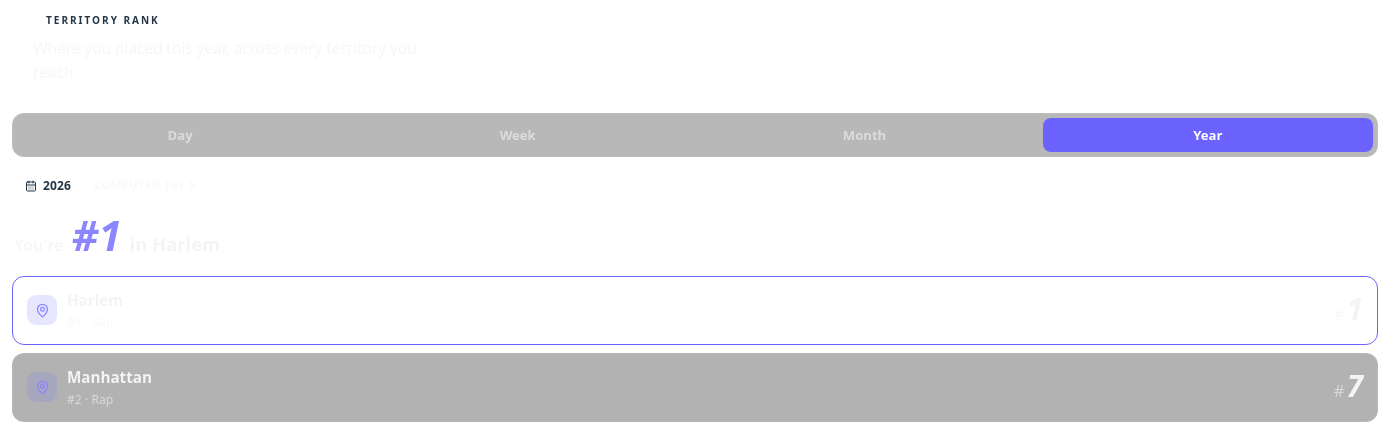
TerritoryRankSection › switching to Week shows that period without refetching
expect the text "#1" is shown: met, box [72, 217, 122, 254]
Click the tab "Week": (518, 135) [349, 118, 686, 152]
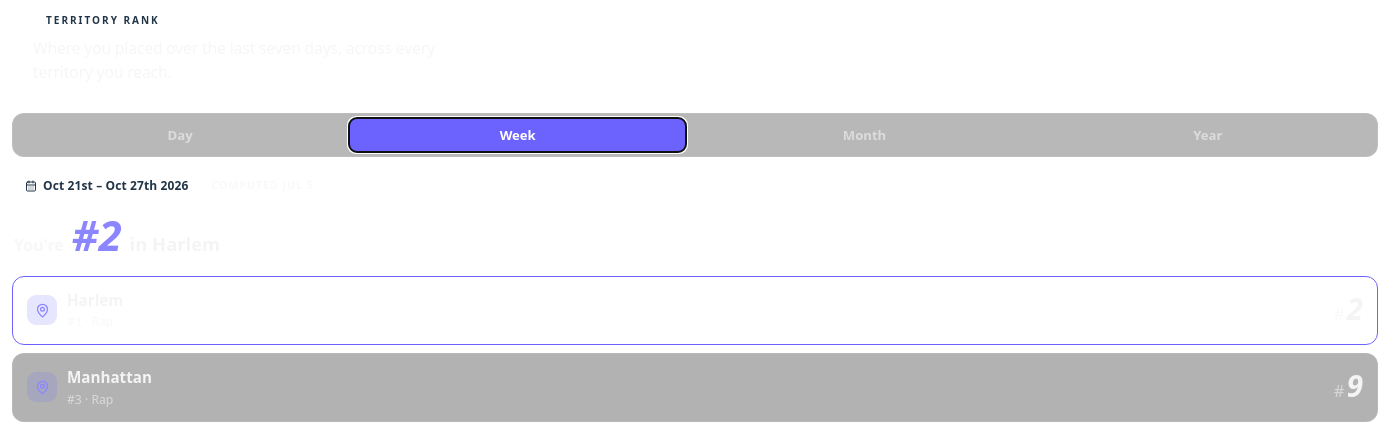
expect the text "#2" is shown: met, box [72, 217, 122, 254]
